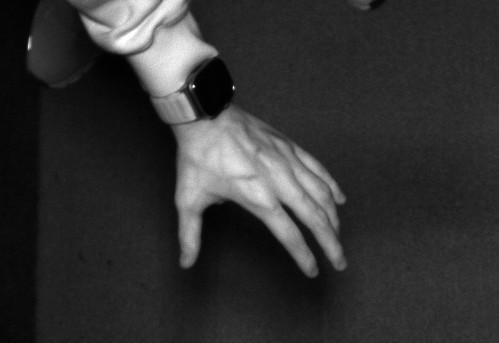hand: (162, 120, 354, 277)
